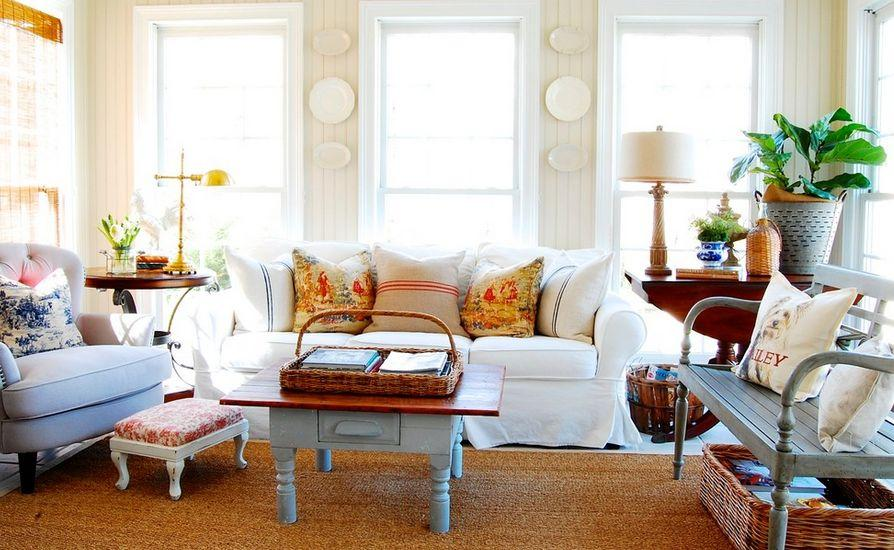fire: (177, 186, 254, 283)
